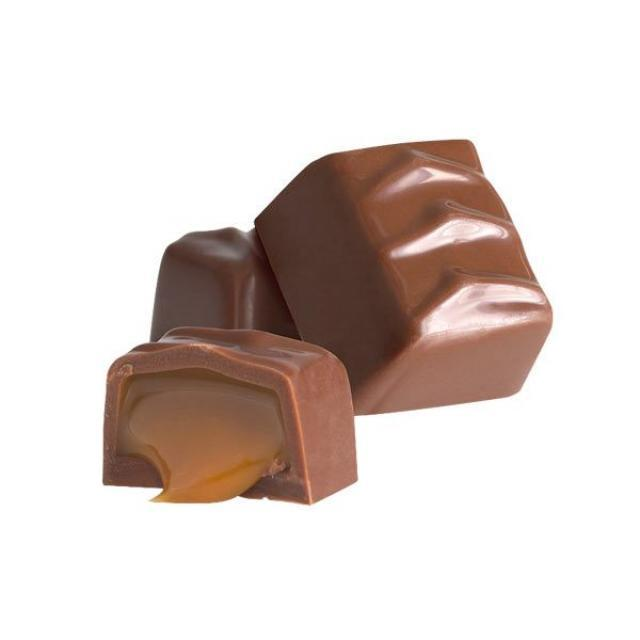Chocolate bar packaged: (251, 136, 554, 420), (92, 324, 367, 508)
